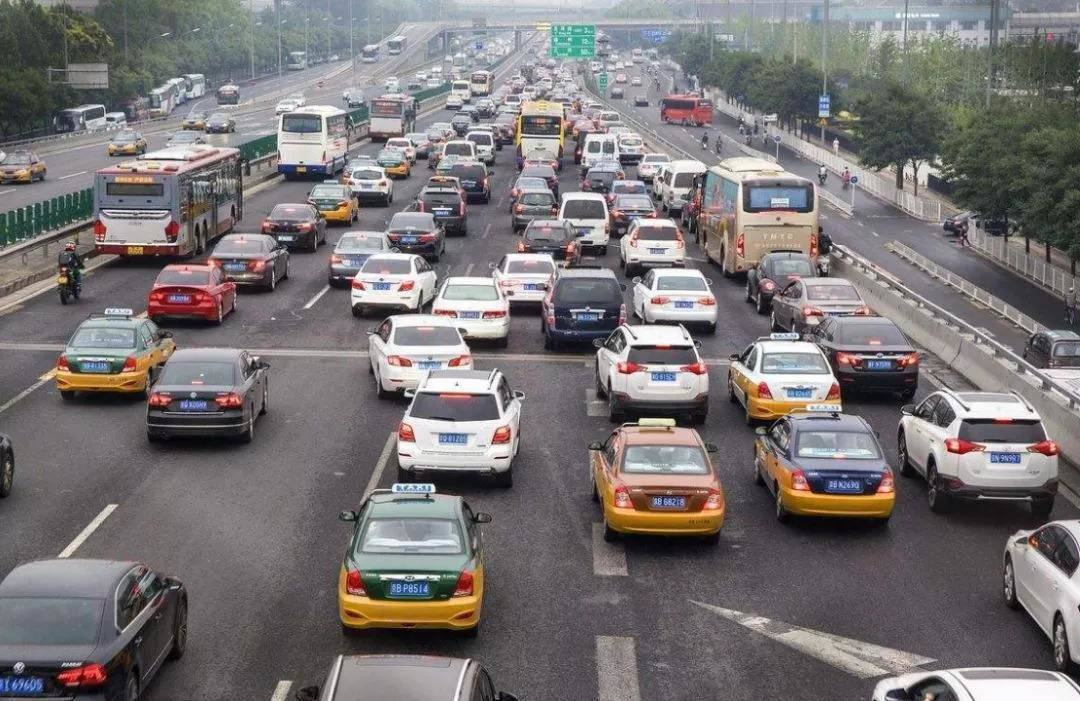bus: (756, 361, 896, 523), (82, 138, 255, 254), (693, 164, 828, 264), (273, 100, 356, 177), (514, 96, 572, 163), (656, 88, 725, 137), (365, 91, 433, 140), (136, 68, 207, 109), (43, 103, 119, 132), (462, 64, 496, 92), (284, 50, 316, 71), (384, 33, 412, 55), (358, 42, 381, 65), (451, 77, 476, 96)
car: (2, 536, 185, 701), (314, 475, 502, 628), (906, 380, 1065, 499), (968, 489, 1080, 657), (397, 363, 525, 485), (599, 420, 719, 542), (845, 640, 1080, 701), (589, 329, 725, 428), (138, 340, 266, 441), (721, 329, 860, 416), (64, 298, 176, 393), (351, 312, 490, 376), (632, 264, 735, 345), (805, 315, 917, 389), (140, 260, 242, 336), (766, 282, 889, 342), (427, 277, 510, 345), (541, 268, 622, 337), (366, 245, 456, 303), (418, 180, 491, 244), (328, 217, 402, 278), (739, 257, 810, 308), (567, 188, 618, 255), (619, 216, 685, 266), (385, 205, 446, 258), (489, 253, 555, 299), (264, 196, 314, 253), (523, 218, 585, 261), (348, 163, 395, 213), (307, 179, 360, 223), (582, 132, 629, 179), (217, 232, 265, 276), (518, 188, 566, 230), (185, 106, 242, 140), (3, 150, 52, 187), (381, 137, 412, 186), (103, 126, 146, 160), (403, 129, 442, 162), (464, 124, 496, 164), (638, 154, 676, 186), (579, 166, 610, 197), (614, 191, 653, 215), (441, 141, 476, 165), (610, 130, 640, 157)
motorbike: (55, 234, 102, 297)
